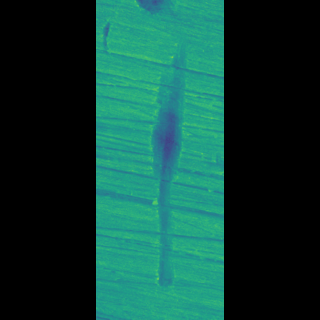Loch: (155, 39, 173, 293)
